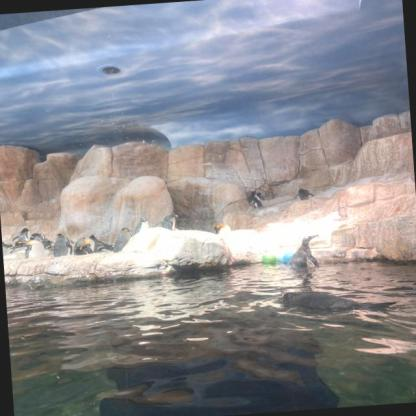penguin: (277, 284, 396, 323), (286, 234, 320, 270), (12, 238, 46, 260), (154, 212, 180, 232), (52, 232, 72, 256), (113, 227, 132, 251), (29, 232, 51, 250), (248, 189, 266, 208), (73, 233, 87, 255), (94, 239, 116, 252), (12, 227, 29, 243), (88, 233, 100, 254), (295, 187, 313, 201), (135, 216, 148, 233), (213, 222, 230, 234), (2, 241, 13, 250)
